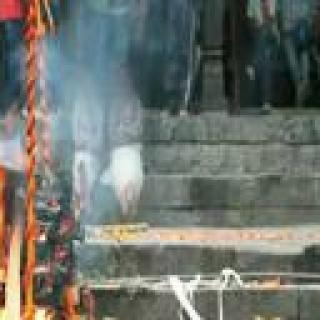fire: (0, 144, 25, 320)
